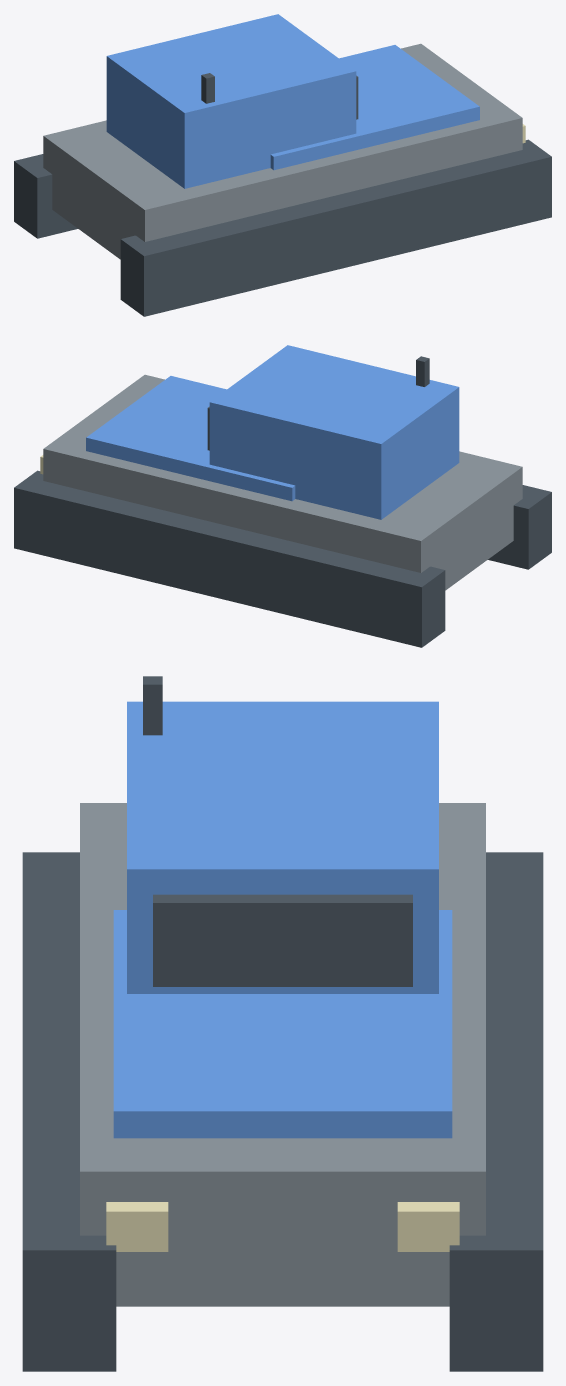
The model's file is verkenner.glb.
The picture shows the model from 3 angles, top to bottom: view 1: azimuth 30°, elevation 25°; view 2: azimuth 150°, elevation 25°; view 3: azimuth 270°, elevation 25°; orthographic projection. The views are drawn at different scales.
Visible parts, largest first — view 1: hull_team_LOD0, hull_dark_LOD0, hull_steel_LOD0; view 2: hull_team_LOD0, hull_dark_LOD0, hull_steel_LOD0; view 3: hull_team_LOD0, hull_dark_LOD0, hull_steel_LOD0, hull_lamp_LOD0.
Boxes of the visible parts, x1,y1,x2,y2 form: hull_team_LOD0: [106, 14, 479, 188]; hull_dark_LOD0: [14, 73, 551, 316]; hull_steel_LOD0: [43, 43, 522, 259]; hull_team_LOD0: [86, 345, 459, 519]; hull_dark_LOD0: [14, 356, 551, 647]; hull_steel_LOD0: [43, 374, 522, 590]; hull_team_LOD0: [113, 701, 452, 1138]; hull_dark_LOD0: [22, 676, 543, 1371]; hull_steel_LOD0: [80, 803, 485, 1306]; hull_lamp_LOD0: [106, 1202, 459, 1251].
Size of what is drawn, in the model's own units: 3.8 by 1.73 by 2.1.
